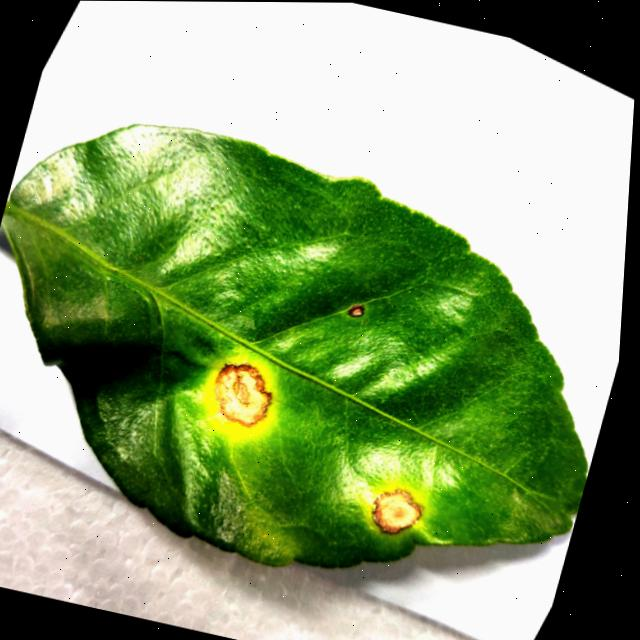antracnose: (0, 125, 587, 566), (215, 364, 271, 426), (373, 490, 420, 533), (348, 304, 364, 316)
